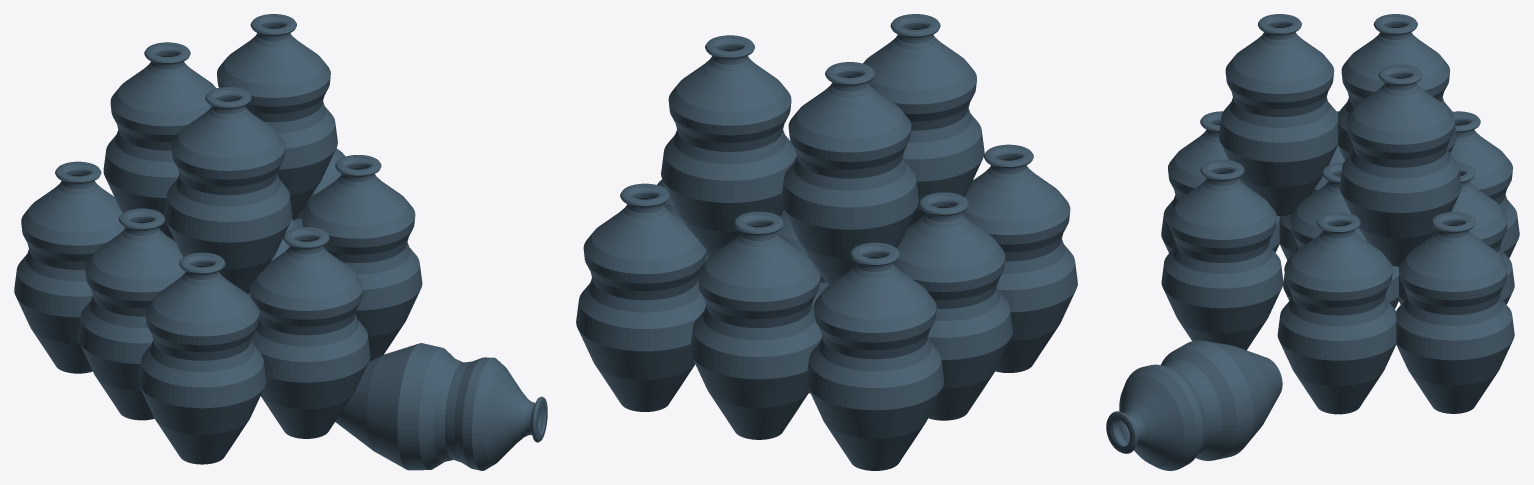
File: P_Vasija2.obj
3 renders of one model, left to right at view 1: azimuth 30°, elevation 25°; view 2: azimuth 150°, elevation 25°; view 3: azimuth 270°, elevation 25°, orthographic. The views are drawn at different scales.
Visible parts, largest first — view 1: P_Vasija2.004, P_Vasija2.002, P_Vasija2.009, P_Vasija2.011, P_Vasija2.001, P_Vasija2.008, P_Vasija2.003, P_Vasija2.012, P_Vasija2.010, P_Vasija2.007; view 2: P_Vasija2.001, P_Vasija2.005, P_Vasija2.007, P_Vasija2.010, P_Vasija2.012, P_Vasija2.003, P_Vasija2.004, P_Vasija2.011, P_Vasija2.006; view 3: P_Vasija2.008, P_Vasija2.007, P_Vasija2.011, P_Vasija2.009, P_Vasija2.012, P_Vasija2.002, P_Vasija2.010, P_Vasija2.001, P_Vasija2.004, P_Vasija2.005, P_Vasija2.006, P_Vasija2.003.
Part boxes in pixels (x1,y1,x2,y2): P_Vasija2.004: (138,252,266,464); P_Vasija2.002: (335,343,547,470); P_Vasija2.009: (249,227,370,438); P_Vasija2.011: (164,87,292,293); P_Vasija2.001: (14,161,125,373); P_Vasija2.008: (301,155,422,361); P_Vasija2.003: (78,208,185,420); P_Vasija2.012: (217,14,337,220); P_Vasija2.010: (103,42,216,240); P_Vasija2.007: (294,148,345,227); P_Vasija2.001: (806,242,943,470); P_Vasija2.005: (690,211,821,439); P_Vasija2.007: (576,183,706,411); P_Vasija2.010: (781,62,918,284); P_Vasija2.012: (661,35,796,257); P_Vasija2.003: (893,192,1012,420); P_Vasija2.004: (962,144,1077,372); P_Vasija2.011: (863,14,984,227); P_Vasija2.006: (777,209,828,393); P_Vasija2.008: (1277,212,1396,414); P_Vasija2.007: (1396,212,1514,413); P_Vasija2.011: (1219,14,1337,215); P_Vasija2.009: (1161,160,1283,350); P_Vasija2.012: (1339,64,1461,266); P_Vasija2.002: (1106,340,1282,470); P_Vasija2.010: (1338,14,1456,160); P_Vasija2.001: (1450,111,1519,258); P_Vasija2.004: (1161,111,1279,252); P_Vasija2.005: (1399,163,1514,304); P_Vasija2.006: (1283,162,1398,308); P_Vasija2.003: (1279,111,1344,260).
Size of the model in its own units: 2.46 by 2.51 by 2.6.
